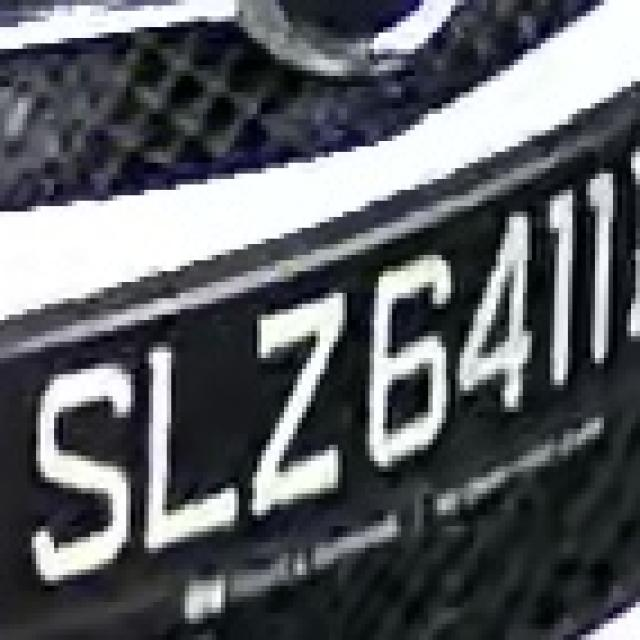1: (568, 152, 617, 363), (541, 174, 577, 412)
4: (451, 190, 532, 428)
6: (370, 244, 455, 477)
L: (140, 320, 248, 559)
S: (27, 331, 126, 586)
Z: (248, 276, 356, 509)
